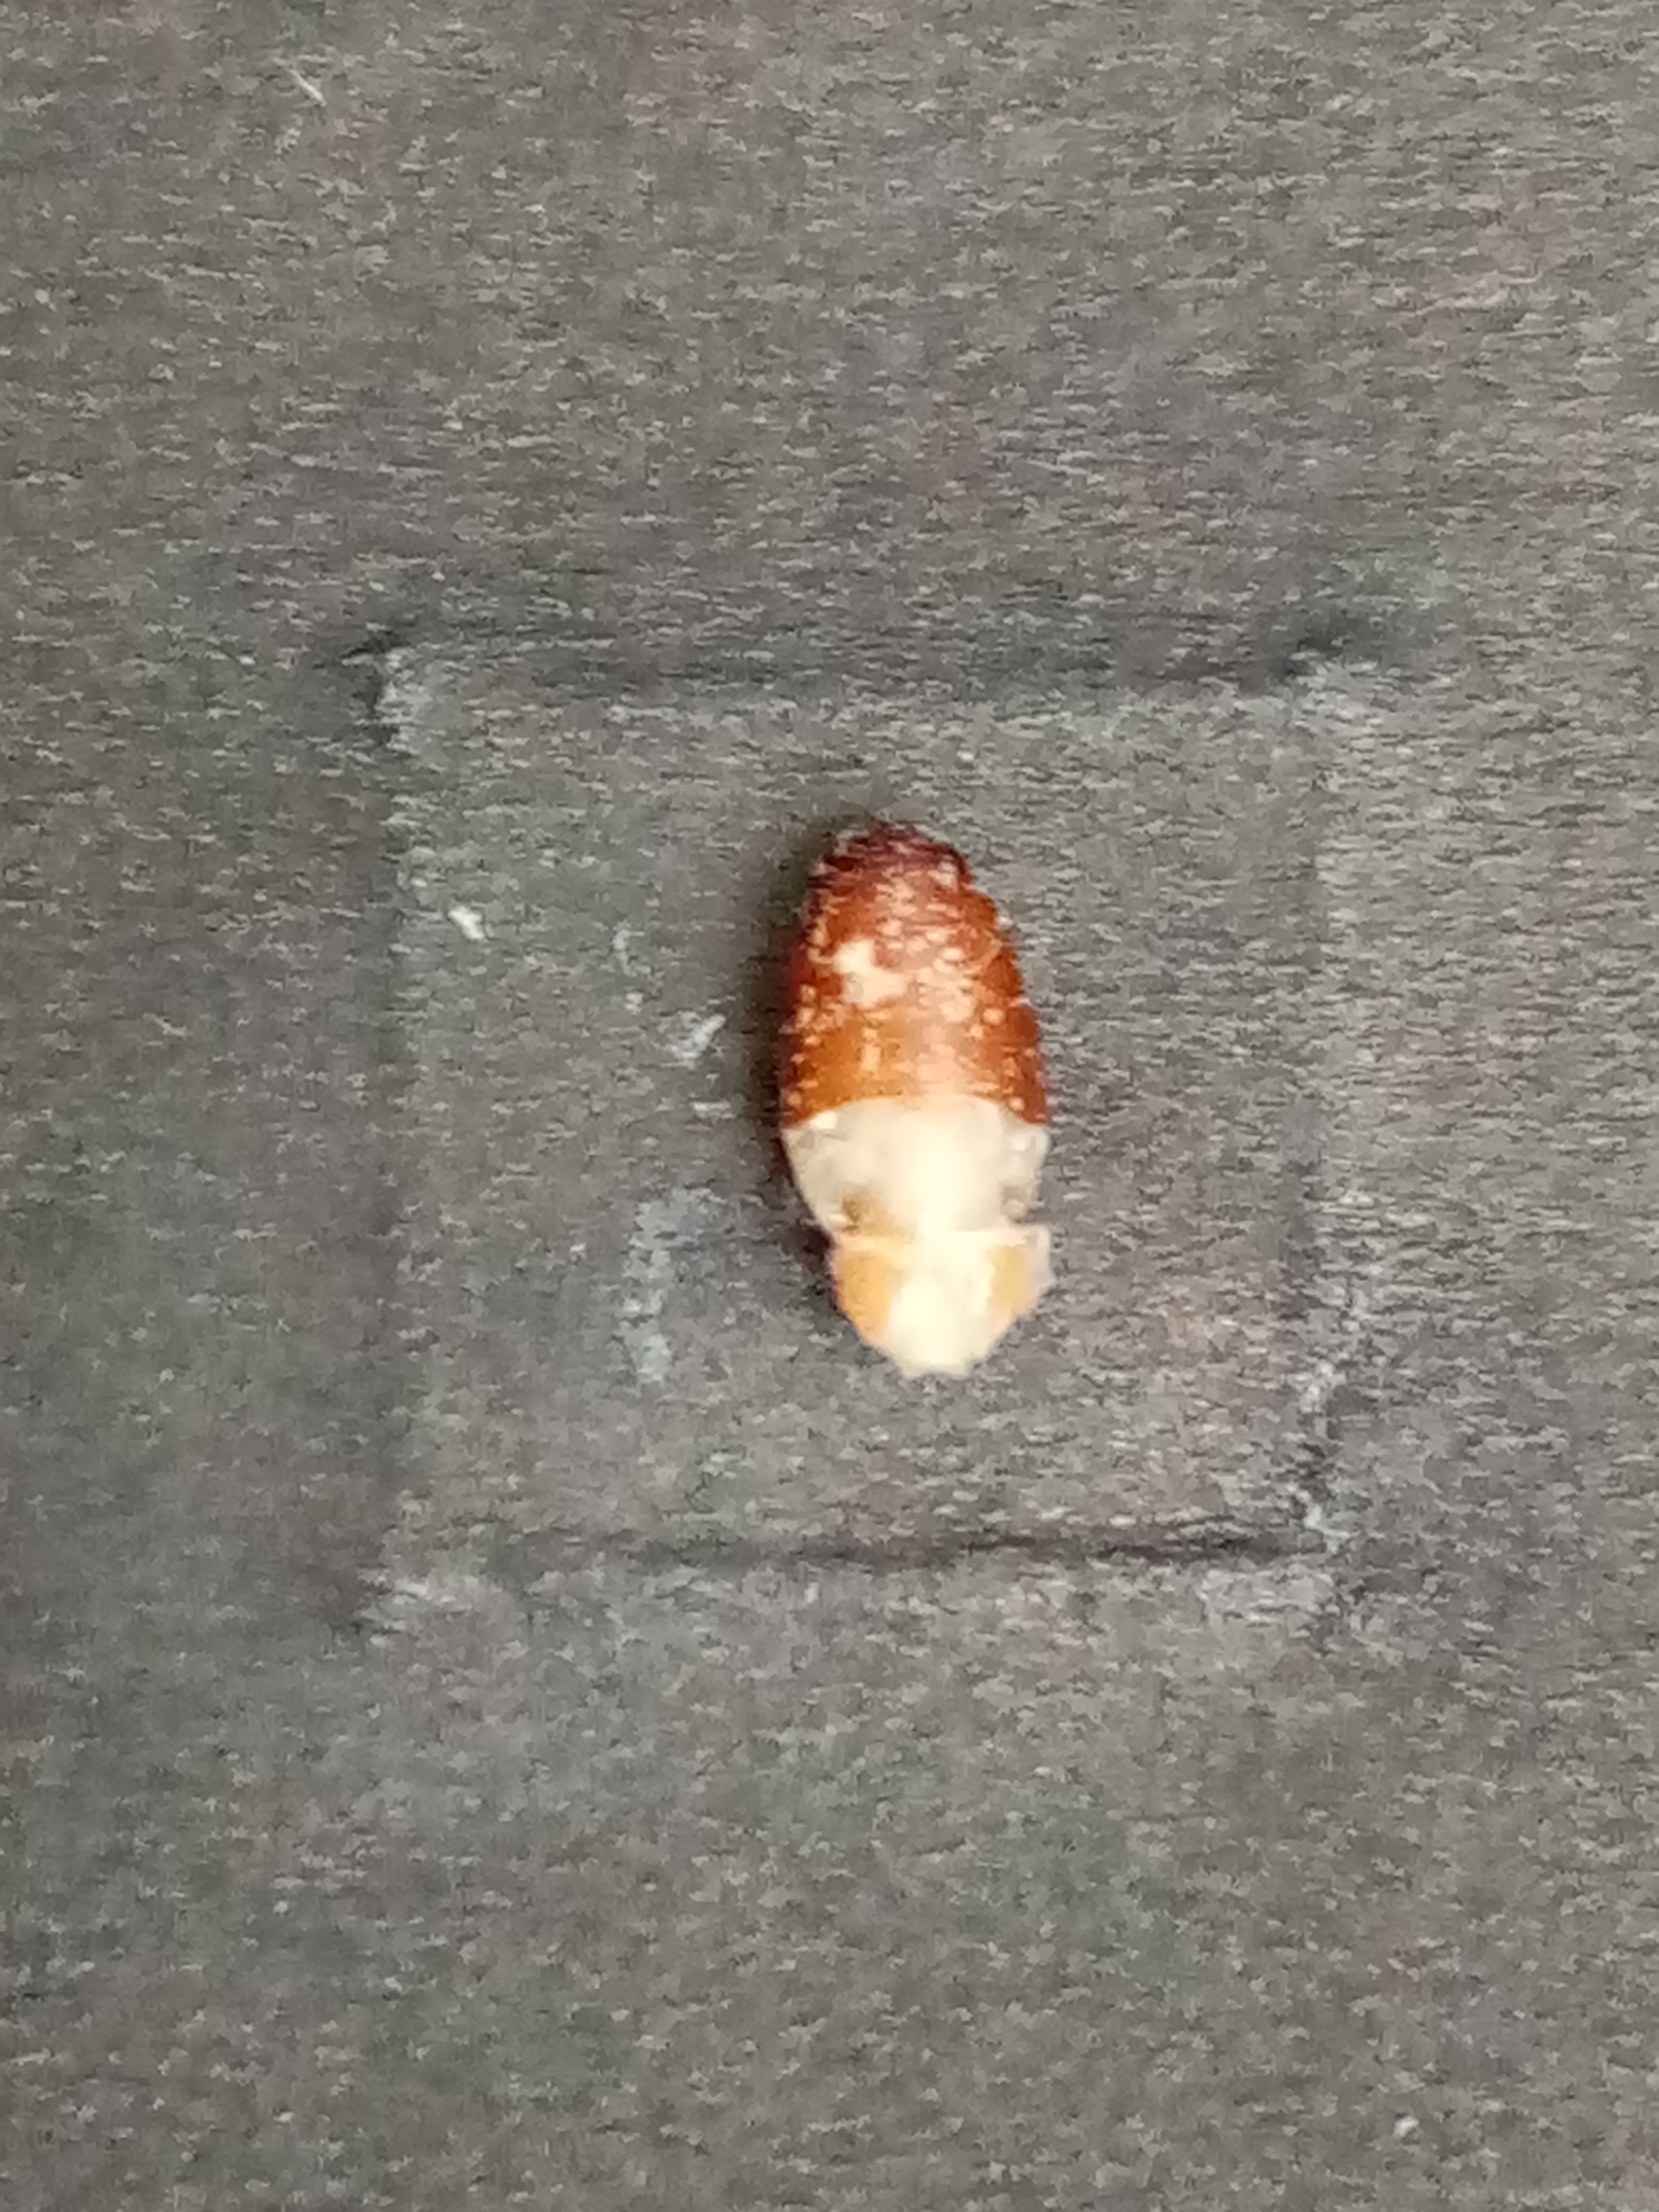pupa: (812, 1197, 1058, 1376)
